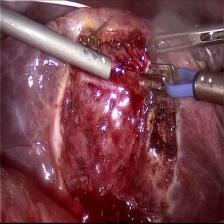Bipolar: (138, 62, 224, 111)
Grasper: (151, 25, 224, 56)
Irrigator: (70, 35, 116, 85)
